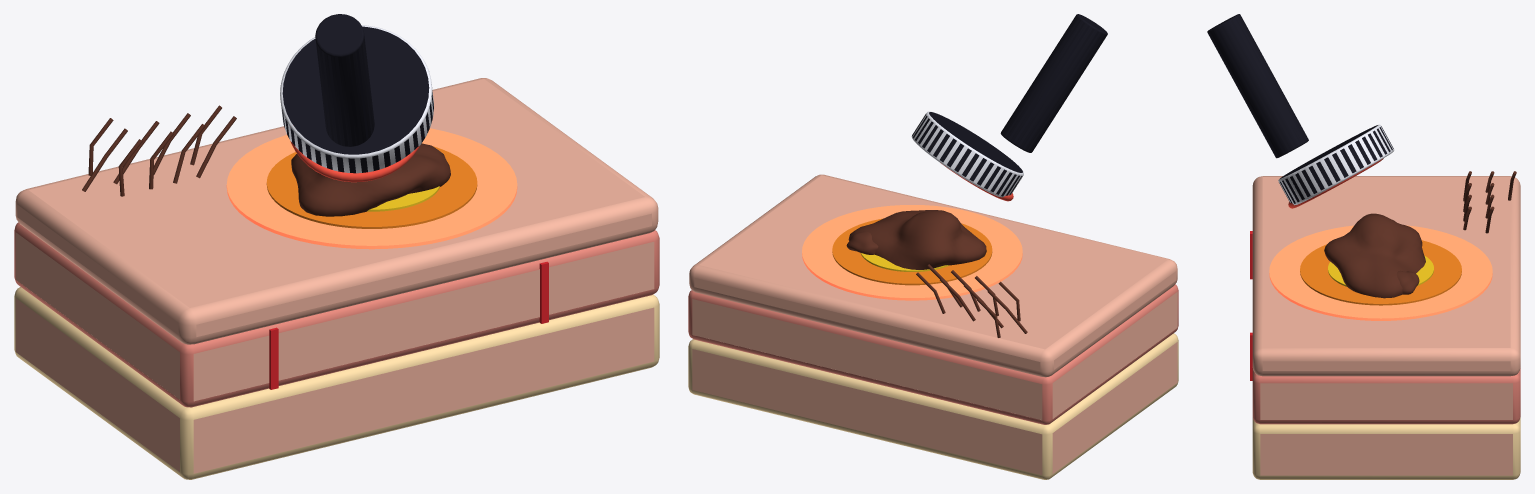
Rendered from derm.glb.
3 renders of one model, left to right at view 1: azimuth 30°, elevation 25°; view 2: azimuth 150°, elevation 25°; view 3: azimuth 270°, elevation 25°, orthographic. The views are drawn at different scales.
Visible parts, largest first — view 1: skin, bob_scope, pulse_heat, lesion, hairs; view 2: skin, pulse_heat, bob_scope, lesion, hairs; view 3: skin, pulse_heat, bob_scope, lesion, hairs.
Boxes of the visible parts, x1,y1,x2,y2 form: skin: (14,78,659,479); bob_scope: (280,14,433,182); pulse_heat: (226,128,517,249); lesion: (291,143,450,216); hairs: (82,105,236,196); skin: (688,174,1178,479); pulse_heat: (802,205,1022,300); bob_scope: (911,14,1107,201); lesion: (846,210,986,269); hairs: (916,264,1027,337); skin: (1250,176,1520,479); pulse_heat: (1269,225,1492,320); bob_scope: (1207,14,1394,208); lesion: (1324,213,1425,298); hairs: (1463,171,1516,233).
Size of the model in its own units: 7.6 by 6.74 by 5.61.
